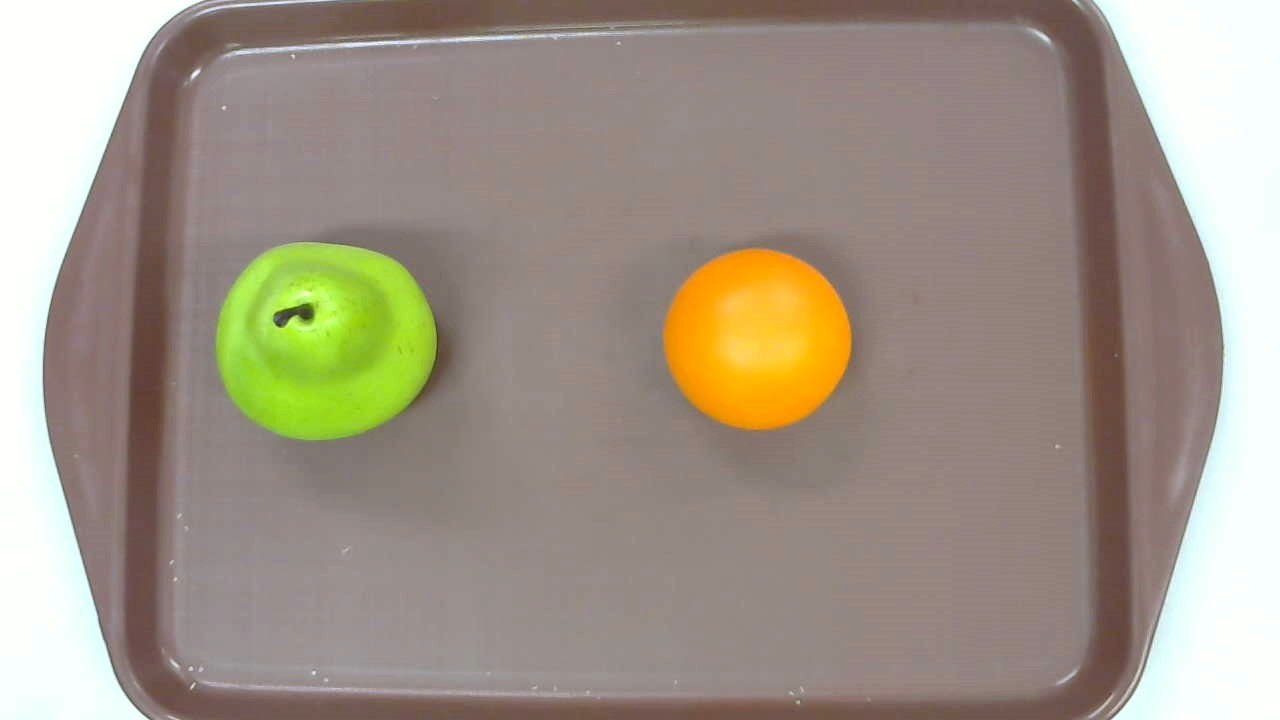bun: (664, 246, 851, 433)
green pear: (215, 241, 435, 441)
